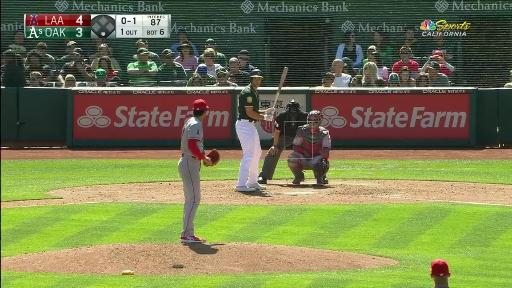pitcher: (178, 99, 221, 242)
